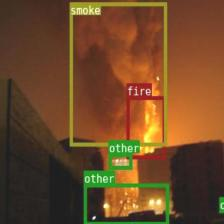fire: (126, 95, 164, 159)
smoke: (69, 2, 166, 146)
